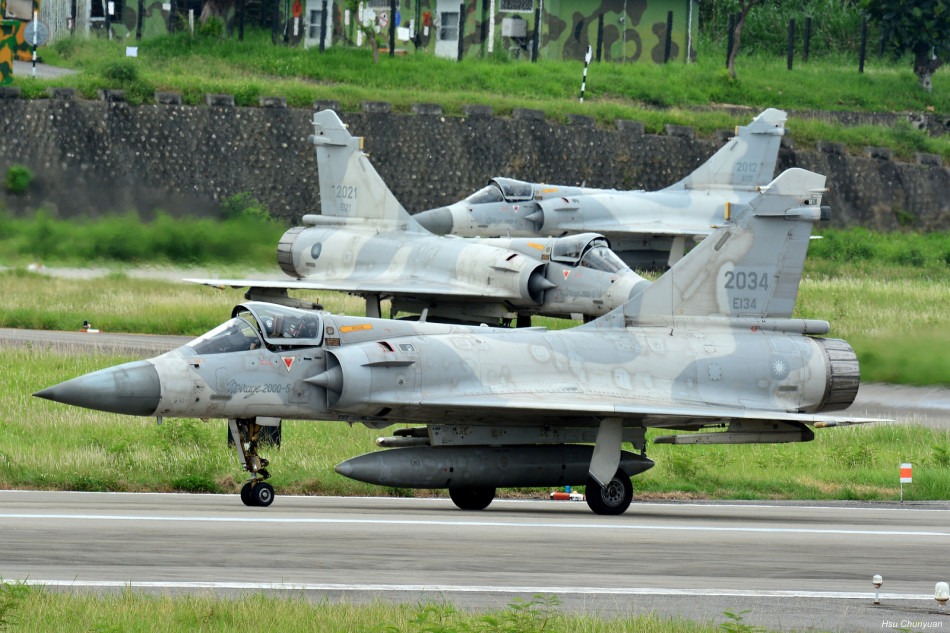Mirage2000: (29, 167, 897, 516), (181, 109, 653, 329), (411, 107, 824, 275)
